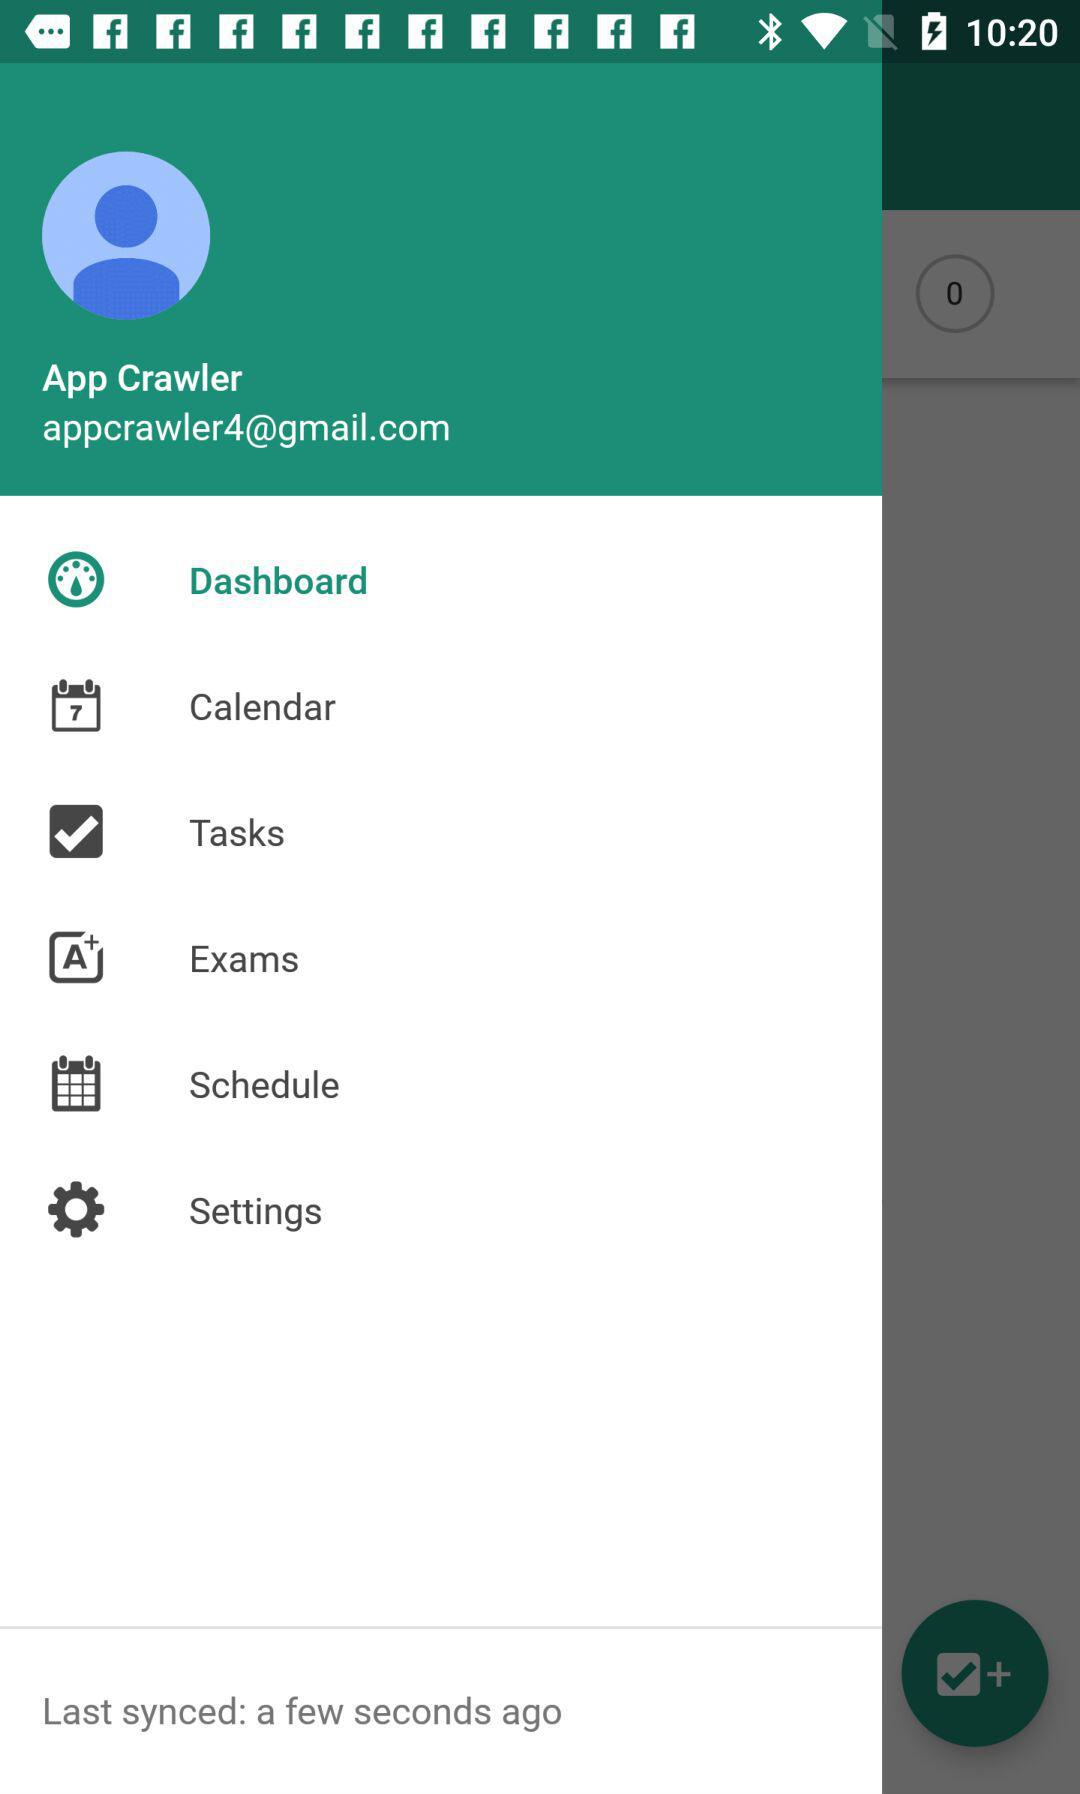CheckedTextView: (49, 805, 284, 860)
Drawer: (1, 64, 881, 1794)
Icon: (41, 151, 213, 322), (47, 1180, 106, 1239), (51, 1055, 102, 1114), (51, 678, 102, 733)
Image: (47, 551, 106, 609), (49, 932, 105, 984)
Text: (44, 1694, 562, 1734), (44, 413, 450, 450), (42, 363, 243, 401), (191, 565, 368, 597), (190, 1196, 323, 1233), (190, 1069, 341, 1099), (190, 691, 338, 721), (191, 944, 300, 974), (190, 818, 284, 848)
UpperTaskBar: (1, 1, 1080, 64)
